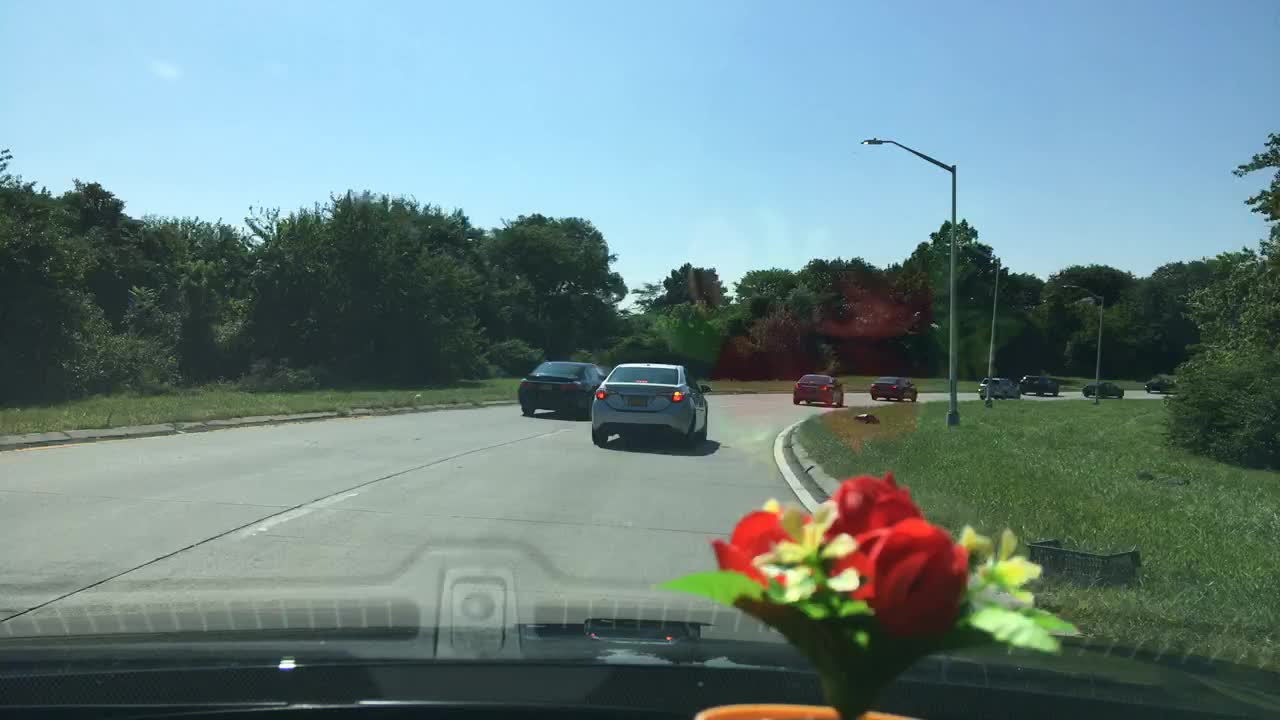car: (586, 362, 711, 442), (516, 358, 603, 419), (791, 375, 845, 405), (868, 377, 919, 400), (1013, 371, 1063, 393), (977, 375, 1016, 398), (1082, 378, 1125, 397), (1145, 372, 1176, 394)
